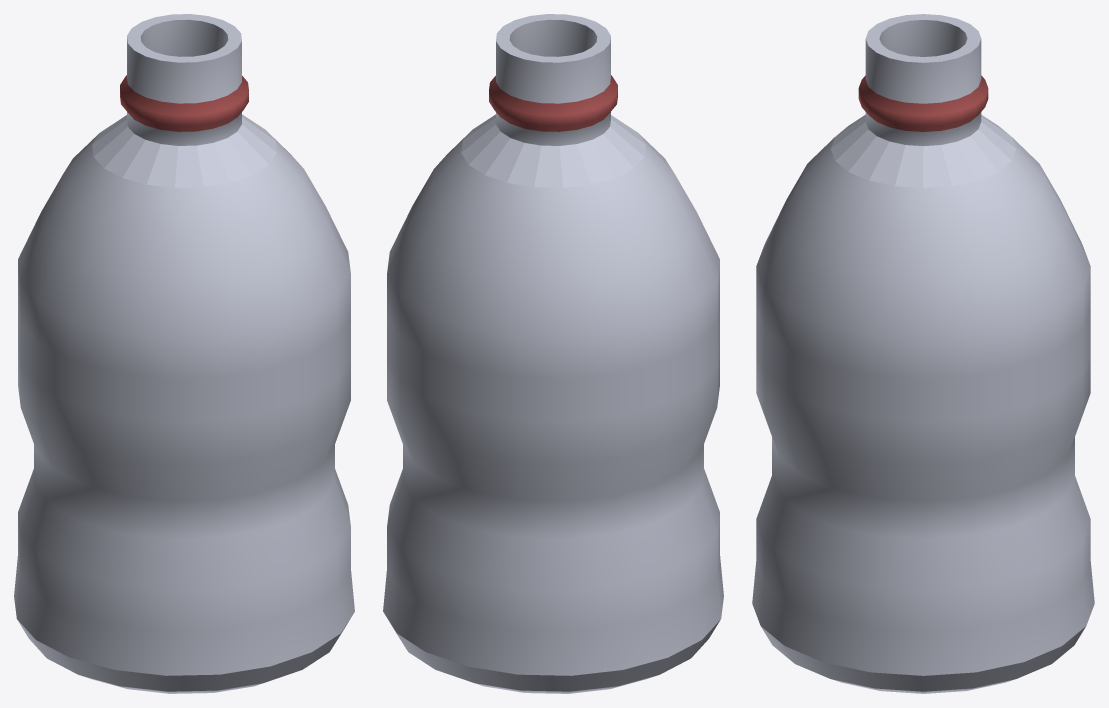
Rendered from bottle.fbx.
The picture shows the model from 3 angles, left to right: view 1: azimuth 30°, elevation 25°; view 2: azimuth 150°, elevation 25°; view 3: azimuth 270°, elevation 25°; orthographic projection.
Visible parts, largest first — view 1: pCylinder3; view 2: pCylinder3; view 3: pCylinder3.
Boxes of the visible parts, bbox=[...] form: pCylinder3: bbox=[14, 14, 354, 693]; pCylinder3: bbox=[383, 14, 723, 693]; pCylinder3: bbox=[752, 14, 1094, 693].
Bounding box in the file's own units: 6.14 × 11.81 × 6.14.
